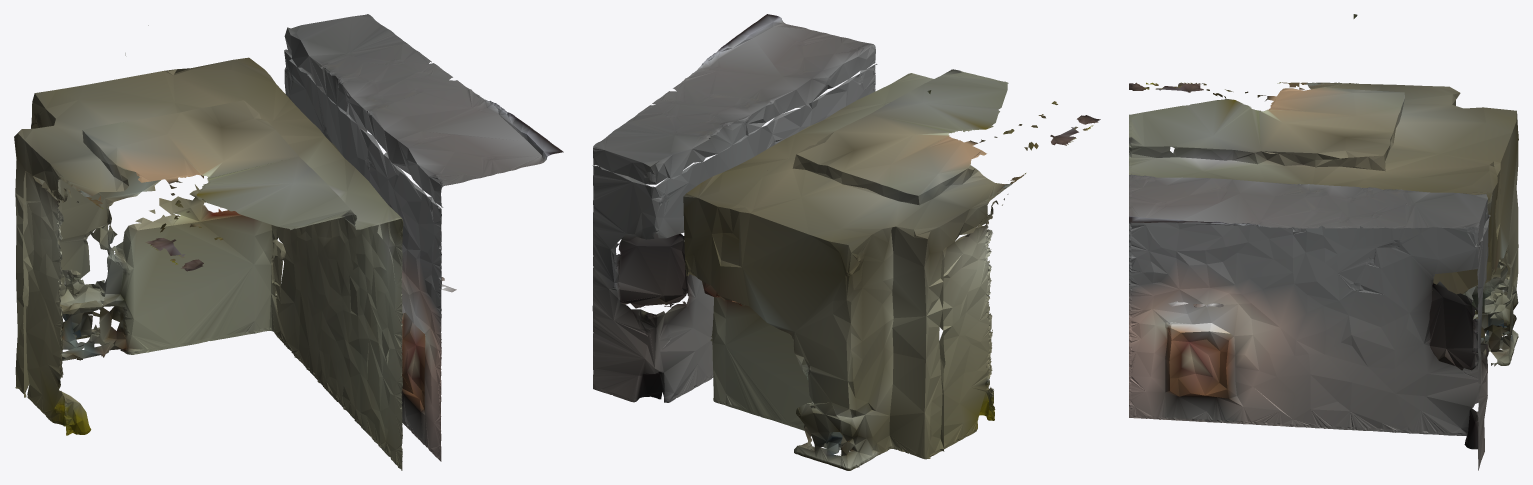
The model's file is coarse.glb.
The picture shows the model from 3 angles, left to right: view 1: azimuth 30°, elevation 25°; view 2: azimuth 150°, elevation 25°; view 3: azimuth 270°, elevation 25°; orthographic projection. The views are drawn at different scales.
Bounding box in the file's own units: 2.15 × 1.98 × 2.16.
